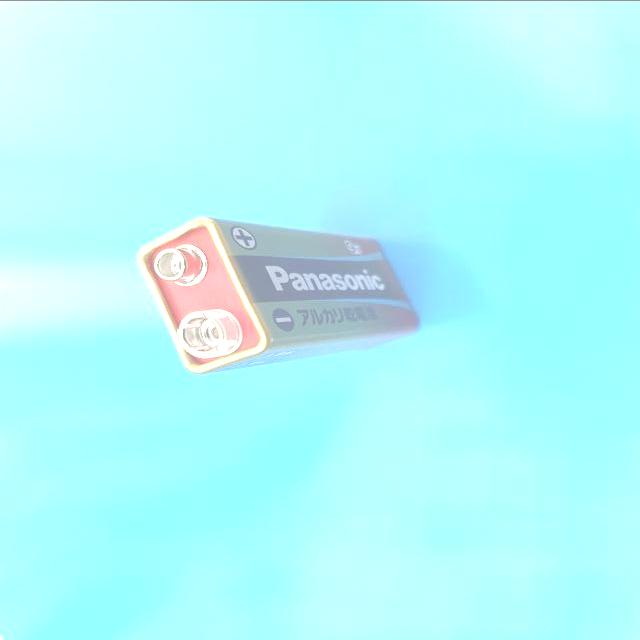9V: (138, 214, 418, 373)
